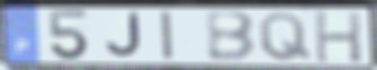5: (47, 7, 91, 62)
B: (203, 9, 258, 63)
H: (312, 9, 365, 65)
I: (158, 9, 177, 62)
J: (103, 11, 144, 60)
Q: (257, 10, 314, 62)
